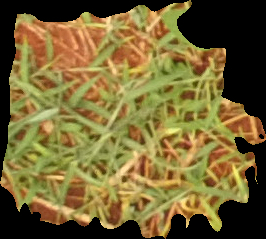grass: (1, 1, 265, 238)
